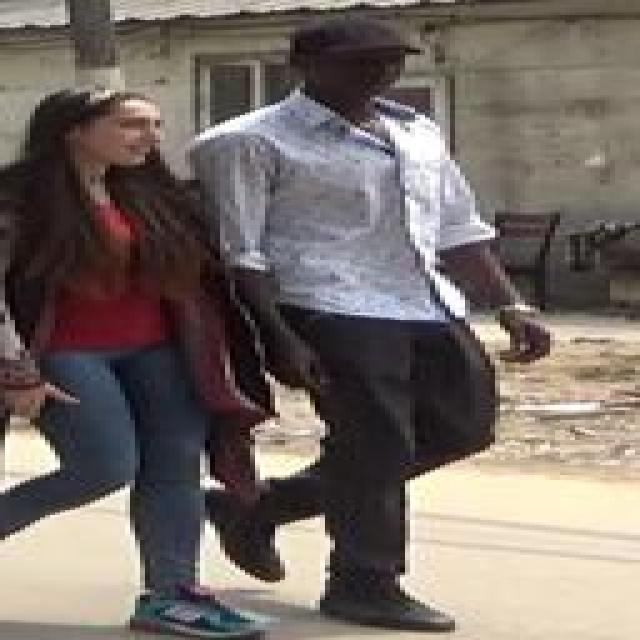adult: (186, 30, 564, 620), (8, 84, 262, 640)
